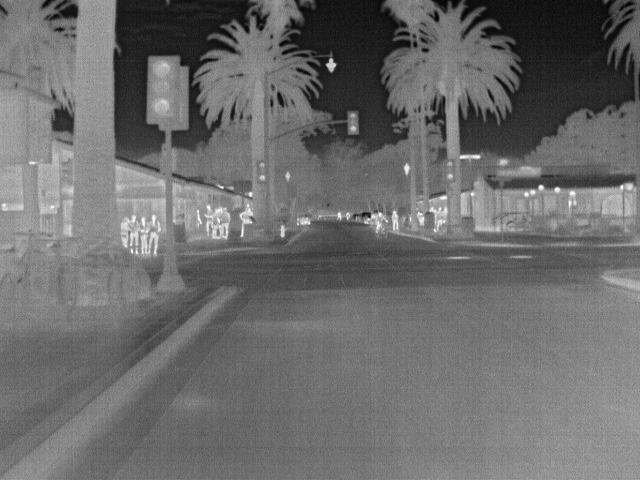car: (361, 211, 373, 225), (298, 215, 312, 227)
person: (146, 213, 160, 258), (127, 214, 144, 250), (220, 206, 234, 242), (241, 206, 255, 238), (372, 209, 389, 235), (212, 209, 225, 240), (202, 204, 214, 237), (388, 208, 402, 234), (435, 204, 446, 230)
